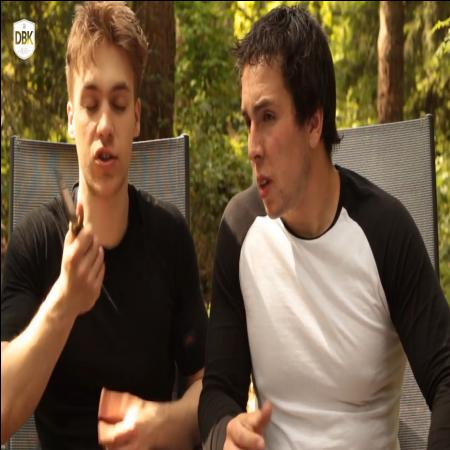long weapon: (49, 158, 110, 278)
